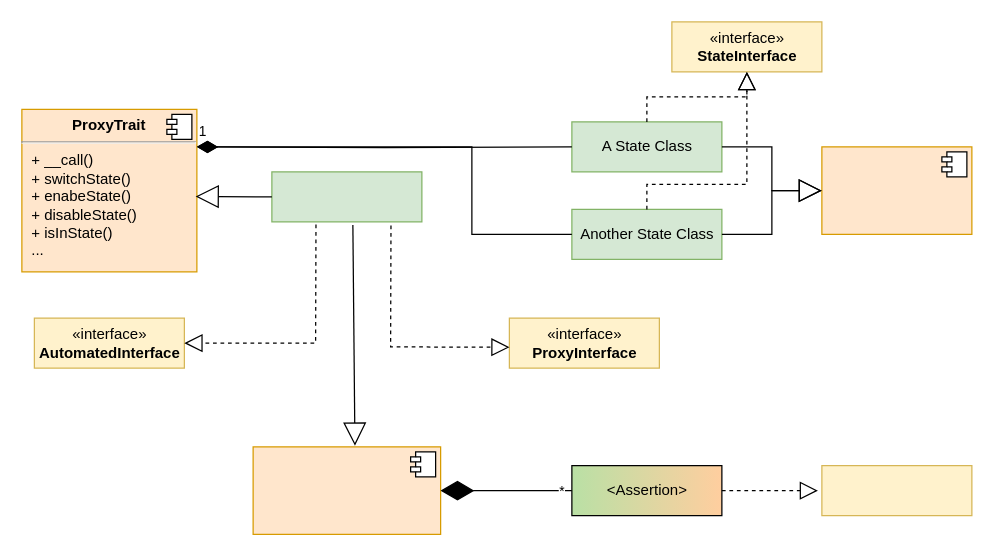
Some shapes in this 994 by 556 pixel diagram are drawn without their labels. Here are the shapes that lost their labels. From the top down, the centre of each, then its label:
(346,196): A Proxy Class
(896,190): StateTrait + executeClosure()
(346,490): AutomatedTrait + updateStates()
(896,490): «interface» AssertionInterface
